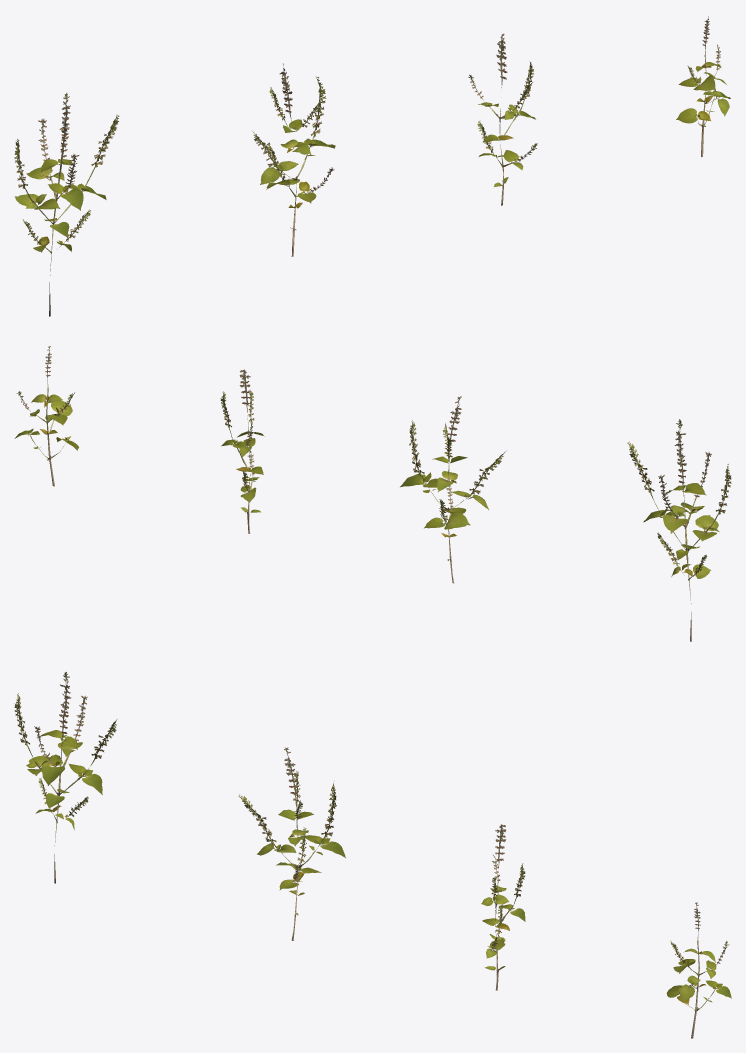
File: shrub_03.glb
The picture shows the model from 3 angles, top to bottom: view 1: azimuth 30°, elevation 25°; view 2: azimuth 150°, elevation 25°; view 3: azimuth 330°, elevation 25°; orthographic projection. The views are drawn at different scales.
Visible parts, largest first — view 1: shrub_03_a, shrub_03_b, shrub_03_c, shrub_03_d; view 2: shrub_03_a, shrub_03_b, shrub_03_c, shrub_03_d; view 3: shrub_03_a, shrub_03_b, shrub_03_c, shrub_03_d.
Boxes of the visible parts, <box> form: shrub_03_a: <box>14,93,119,316</box>; shrub_03_b: <box>252,63,335,256</box>; shrub_03_c: <box>468,33,537,205</box>; shrub_03_d: <box>676,16,730,157</box>; shrub_03_a: <box>627,419,731,641</box>; shrub_03_b: <box>400,396,505,583</box>; shrub_03_c: <box>220,369,264,533</box>; shrub_03_d: <box>14,346,78,486</box>; shrub_03_a: <box>14,672,117,883</box>; shrub_03_b: <box>238,747,345,940</box>; shrub_03_c: <box>481,824,525,990</box>; shrub_03_d: <box>666,902,731,1038</box>.
Bounding box in the file's own units: 1.37 × 0.4028 × 0.1512.
1 material, 1 textured.
